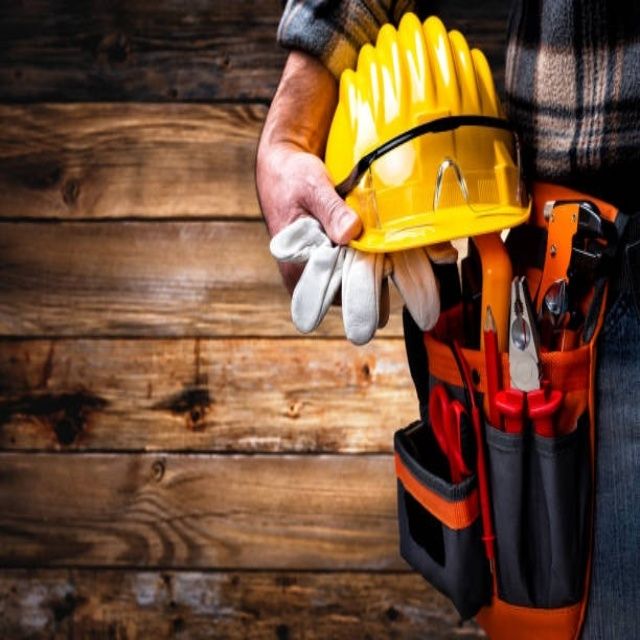Sin_guantes: (254, 49, 368, 321)
